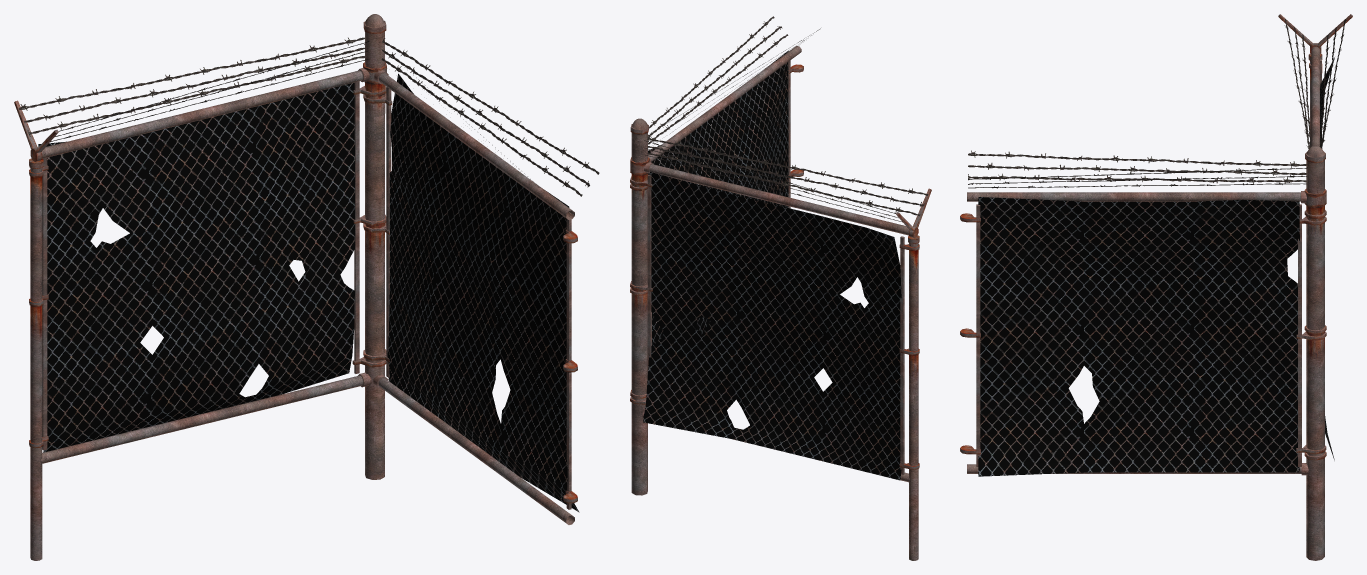
File: FenceCornIn01.FBX
The picture shows the model from 3 angles, left to right: view 1: azimuth 30°, elevation 25°; view 2: azimuth 150°, elevation 25°; view 3: azimuth 270°, elevation 25°; orthographic projection. The views are drawn at different scales.
Visible parts, largest first — view 1: CLFenceCorIn01Link:0, CLFenceCorIn01:0; view 2: CLFenceCorIn01Link:0, CLFenceCorIn01:0; view 3: CLFenceCorIn01Link:0, CLFenceCorIn01:0.
Boxes of the visible parts, bbox=[...] form: CLFenceCorIn01Link:0: bbox=[38, 73, 579, 512]; CLFenceCorIn01:0: bbox=[14, 14, 599, 560]; CLFenceCorIn01Link:0: bbox=[643, 51, 901, 480]; CLFenceCorIn01:0: bbox=[630, 16, 931, 560]; CLFenceCorIn01Link:0: bbox=[978, 57, 1334, 476]; CLFenceCorIn01:0: bbox=[960, 14, 1352, 560].
Bounding box in the file's own units: 2.85 × 3.32 × 2.88.
